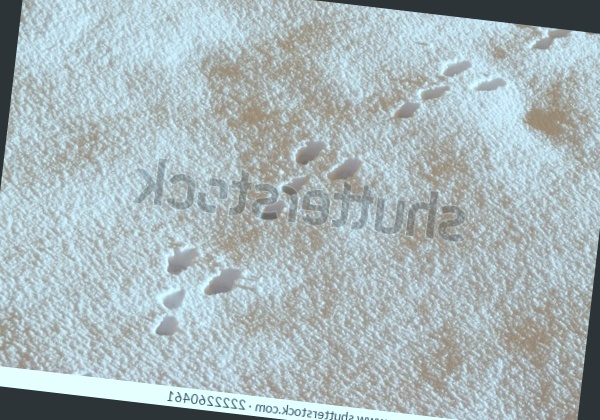lapin: (380, 30, 515, 160), (246, 123, 372, 237), (135, 229, 248, 355), (492, 22, 592, 58)
